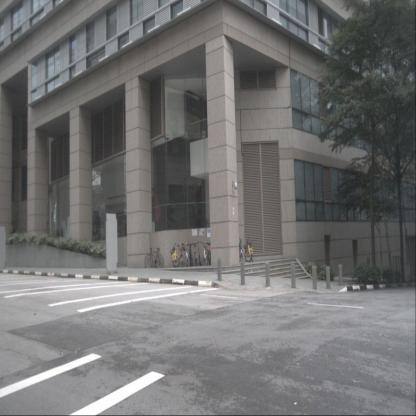vehicle-bicycle: (145, 247, 164, 269), (170, 242, 180, 268), (244, 237, 253, 262), (181, 240, 189, 267), (186, 241, 194, 267), (176, 244, 184, 268), (236, 237, 243, 264), (186, 244, 194, 266), (201, 242, 208, 266), (206, 242, 212, 266), (192, 242, 198, 266)
